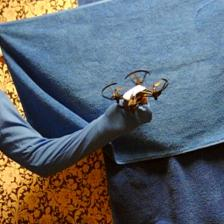drone: (102, 68, 170, 112)
